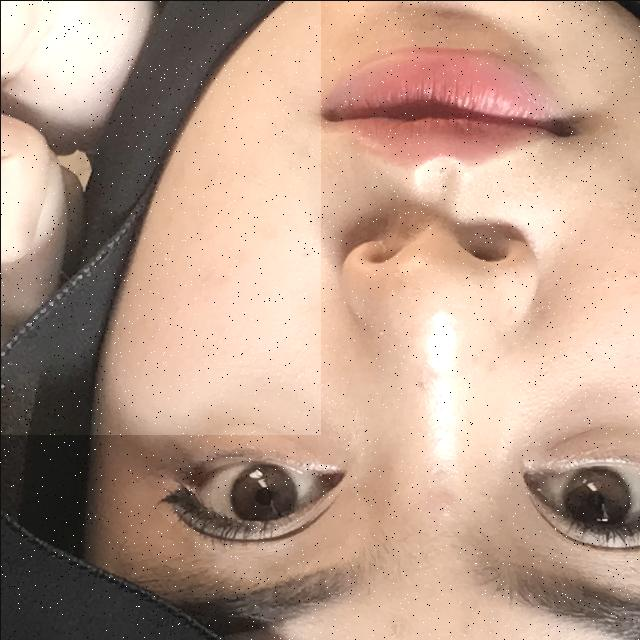ibu: (0, 0, 320, 434)
